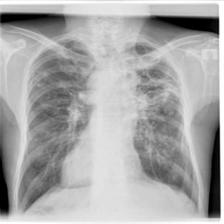tuberculosis: (11, 28, 211, 220)
